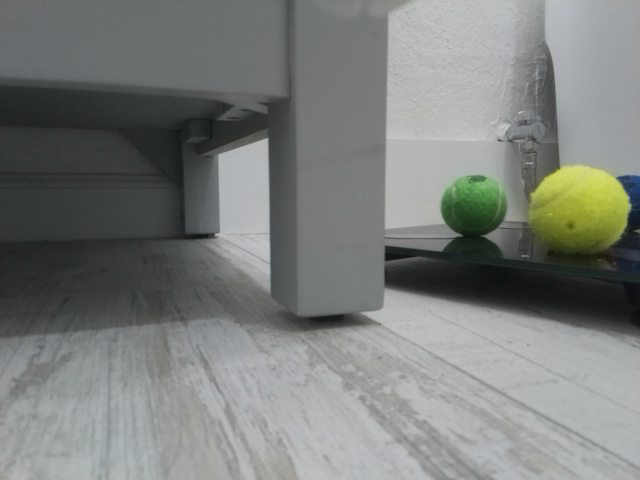green-ball: (440, 172, 508, 239)
yellow-ball: (528, 163, 631, 257)
